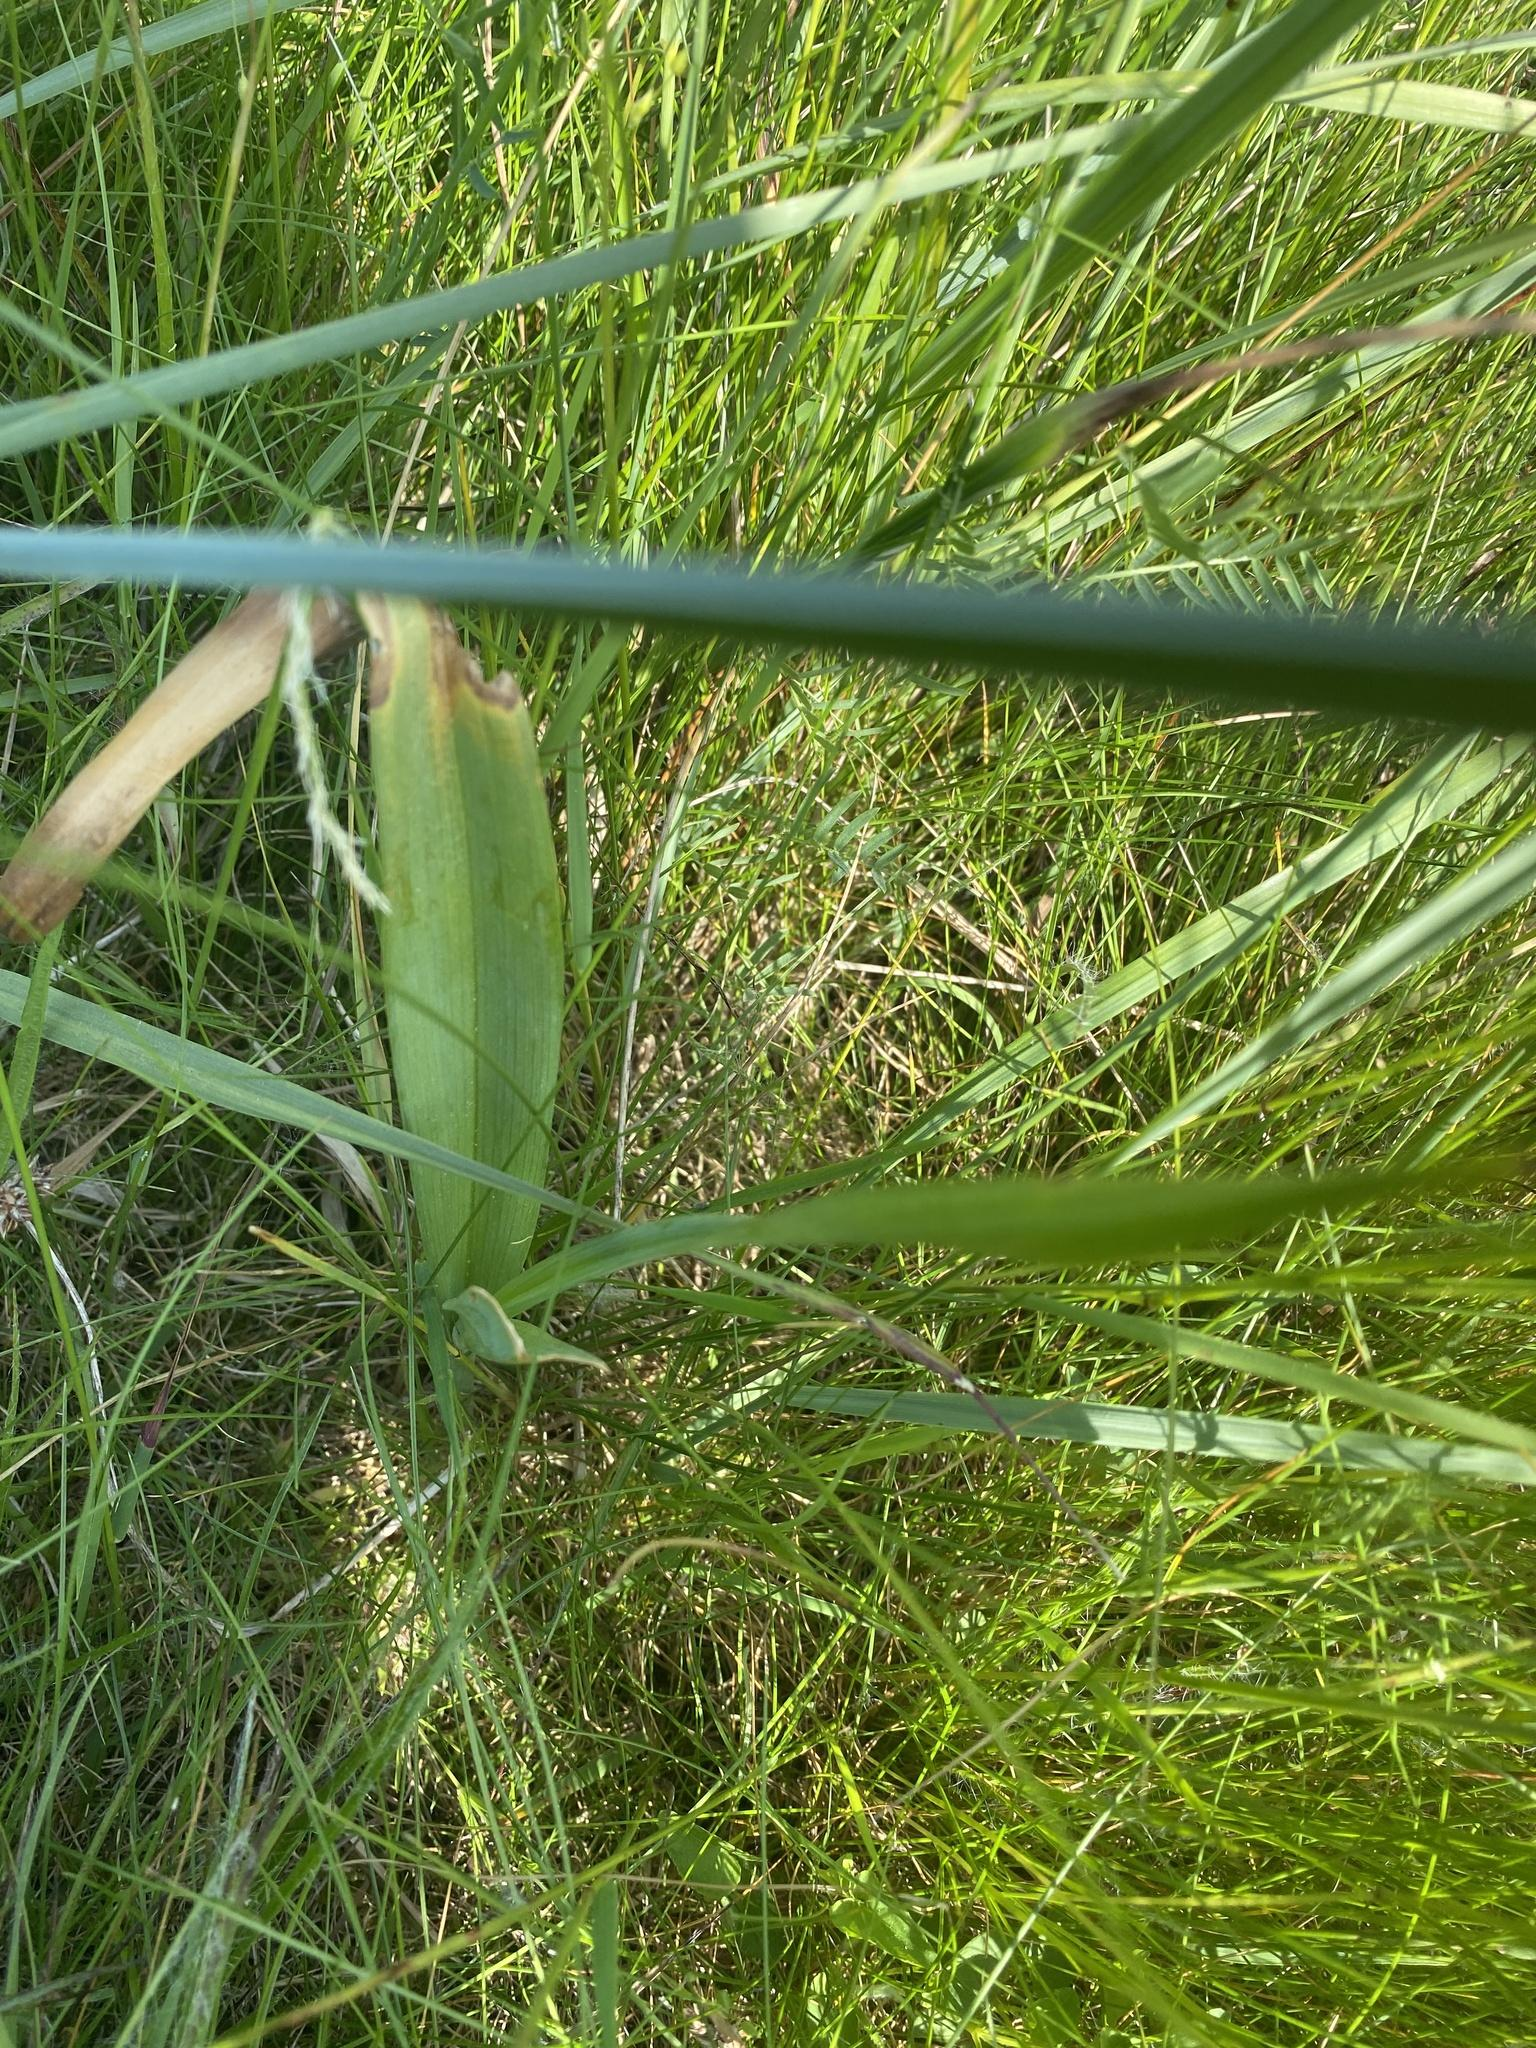Colchicum autumnale L: (150, 510, 1267, 1534)
